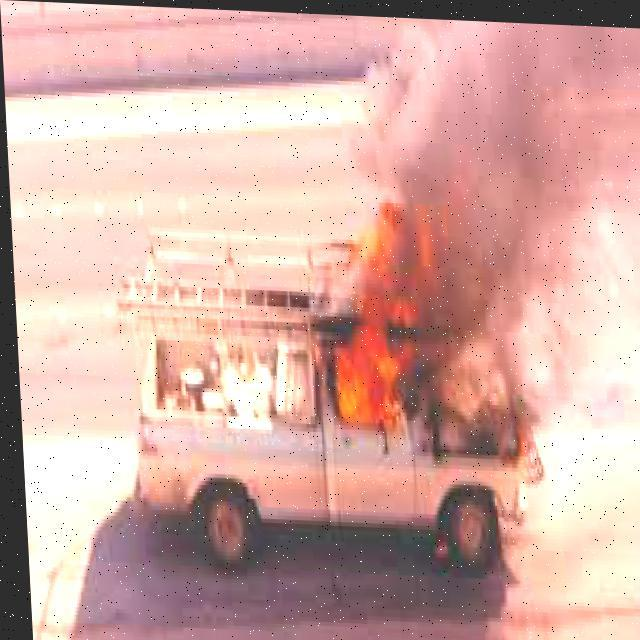Fire: (318, 182, 492, 436)
